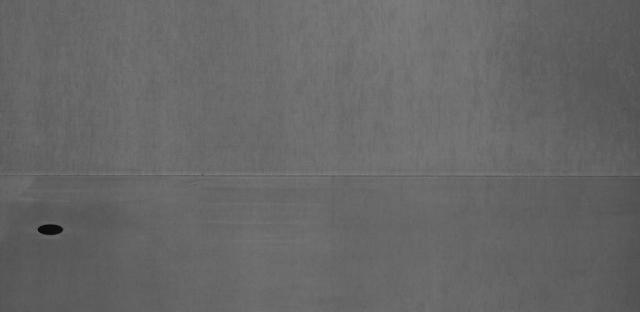punching_hole: (31, 220, 68, 240)
welding_line: (1, 166, 638, 187)
